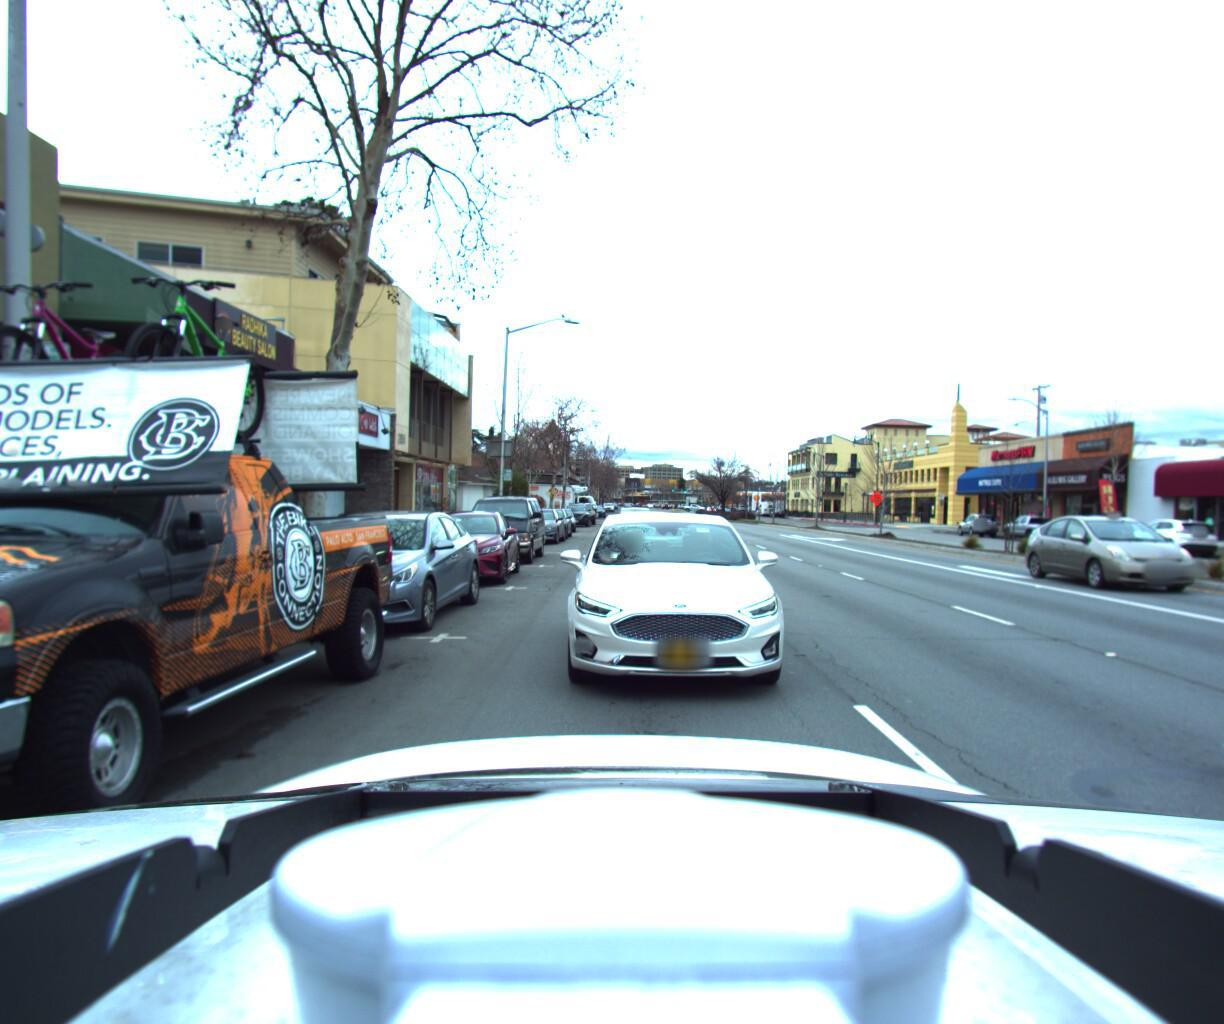car: (0, 25, 429, 972), (538, 500, 812, 711), (260, 502, 486, 645), (1006, 513, 1220, 597), (408, 504, 519, 590), (457, 486, 551, 566), (1120, 510, 1224, 559), (999, 509, 1072, 543), (511, 505, 570, 545), (525, 504, 574, 540), (602, 501, 649, 539), (948, 508, 1002, 538), (541, 504, 578, 533), (561, 503, 593, 526)
truck: (508, 480, 599, 521)
